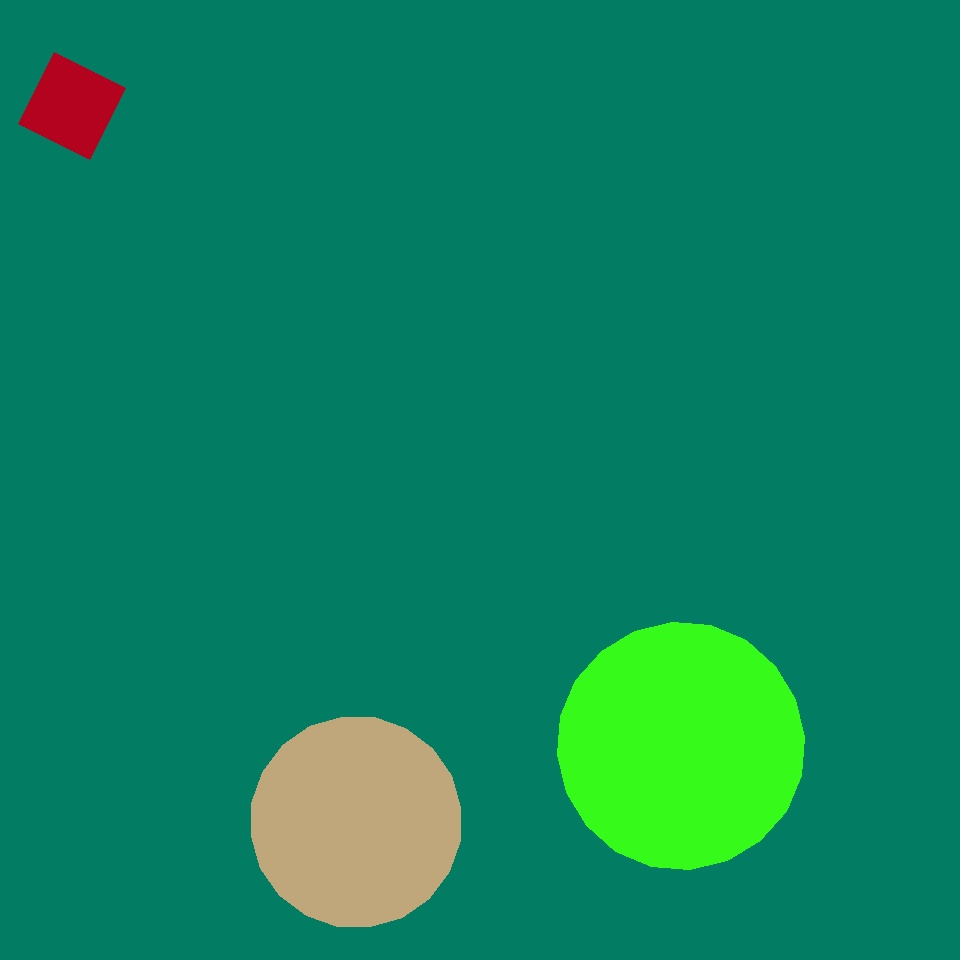circle: (37, 98, 220, 275)
square: (592, 402, 936, 746), (229, 170, 458, 398), (78, 85, 291, 299), (466, 43, 625, 203), (18, 52, 126, 160)
triangle: (558, 622, 804, 870), (252, 717, 461, 926)
